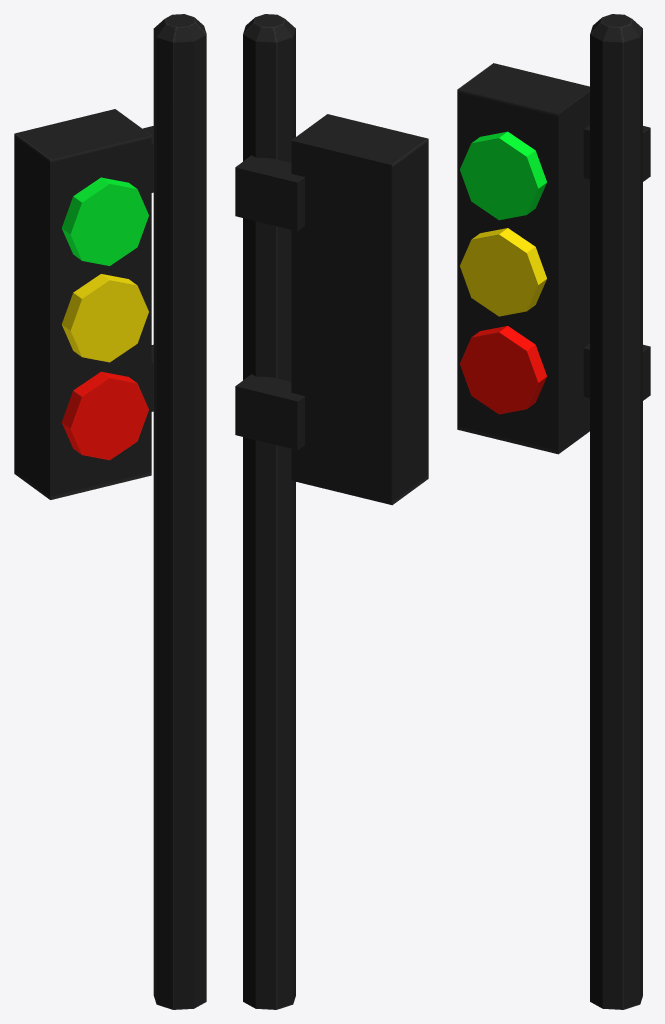
Rendered from TrafficLight.fbx.
3 views of the same model, side by side, from view 1: azimuth 30°, elevation 25°; view 2: azimuth 150°, elevation 25°; view 3: azimuth 330°, elevation 25° (orthographic).
Parts seen in each view (by area): view 1: TrafficLight; view 2: TrafficLight; view 3: TrafficLight.
Part boxes in pixels (bbox=[...]): TrafficLight: bbox=[14, 14, 206, 1009]; TrafficLight: bbox=[235, 14, 428, 1009]; TrafficLight: bbox=[457, 14, 650, 1009].
Size of the model in its own units: 0.3642 by 2.02 by 0.1962.
